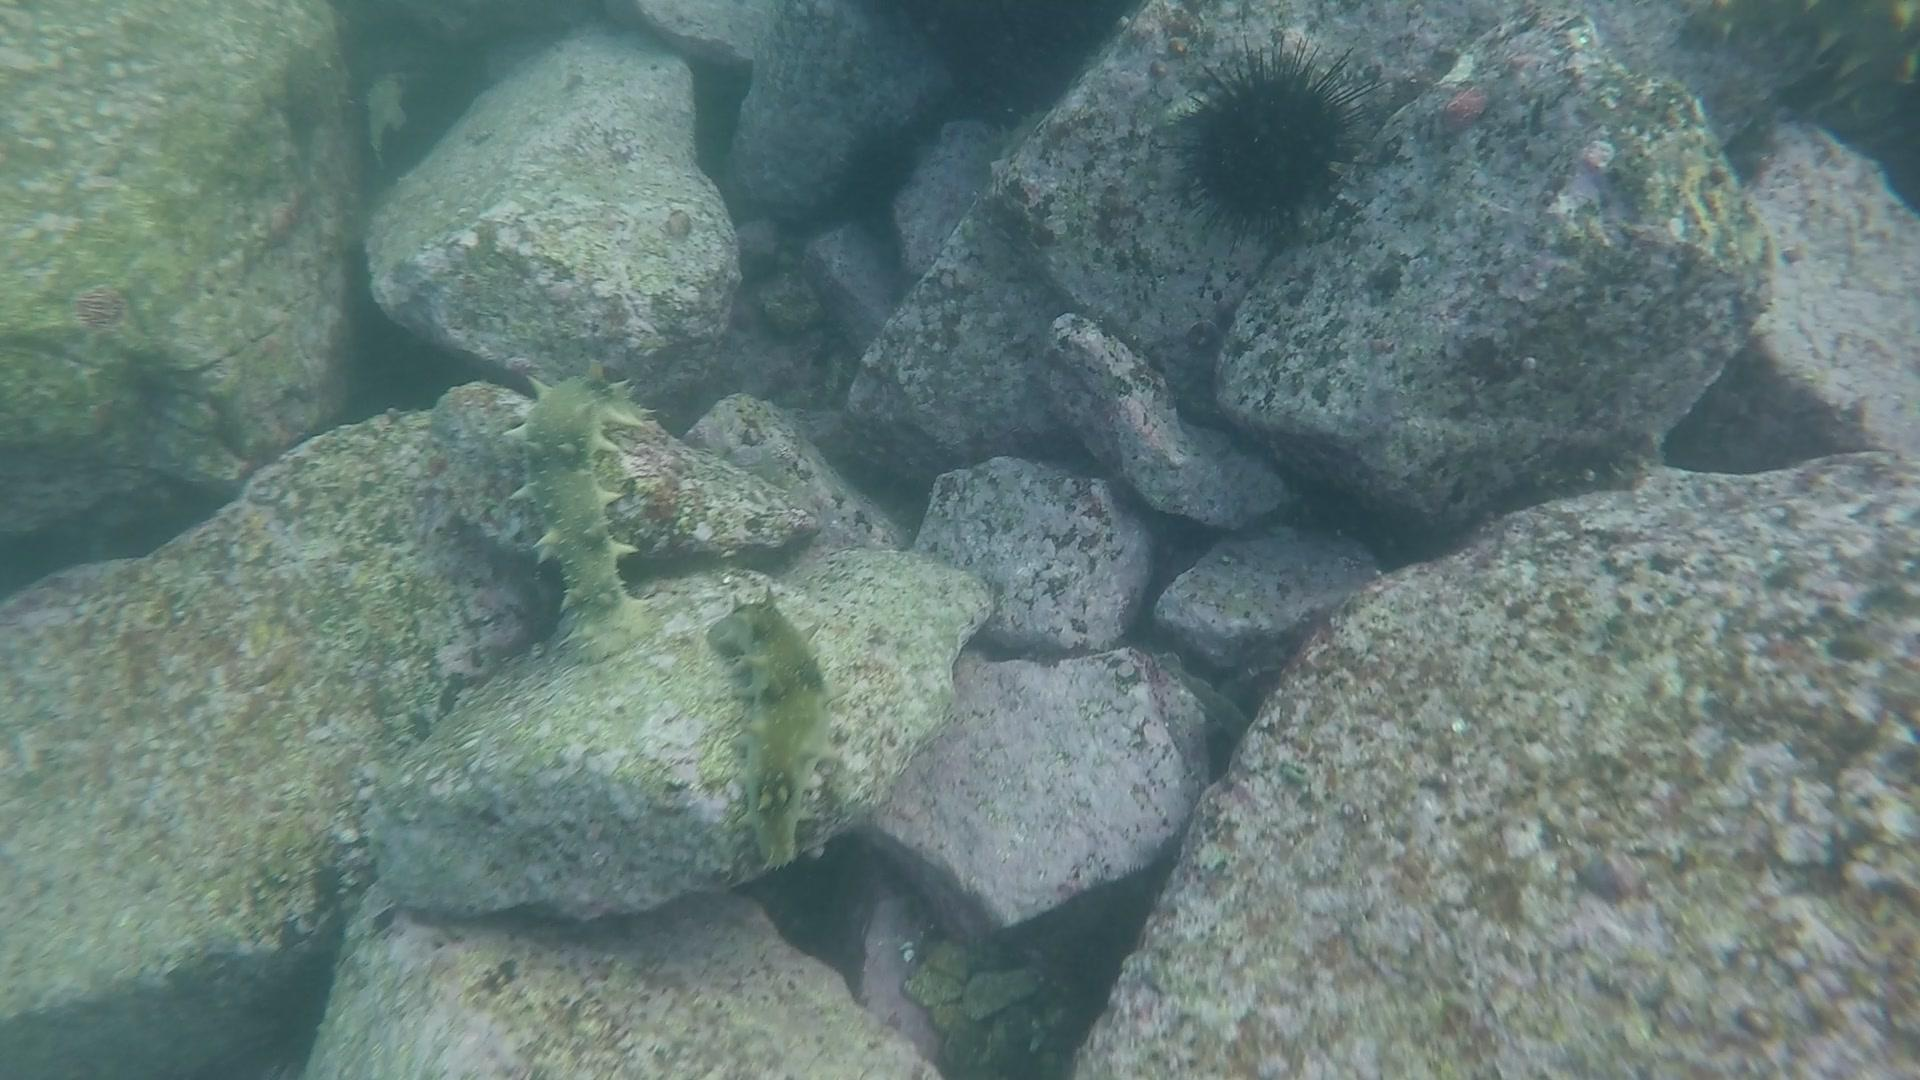echinus: (1164, 38, 1404, 272), (825, 113, 936, 240)
holothurian: (498, 353, 654, 654), (705, 589, 843, 877)
